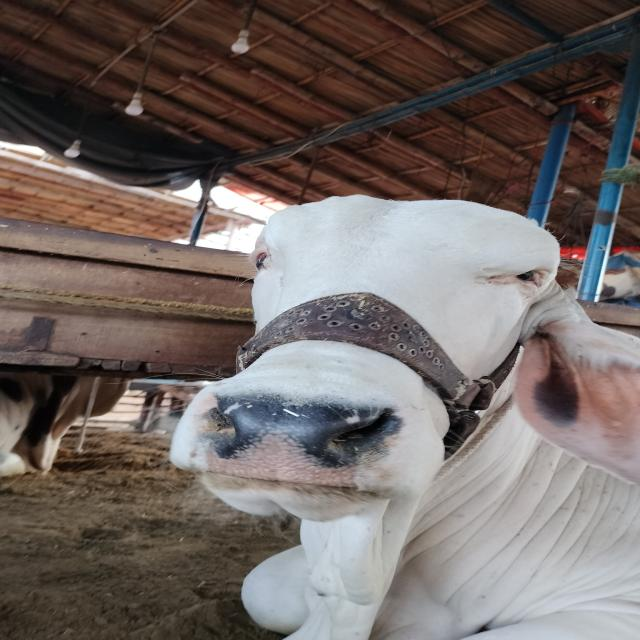muzzles: (173, 384, 412, 495)
